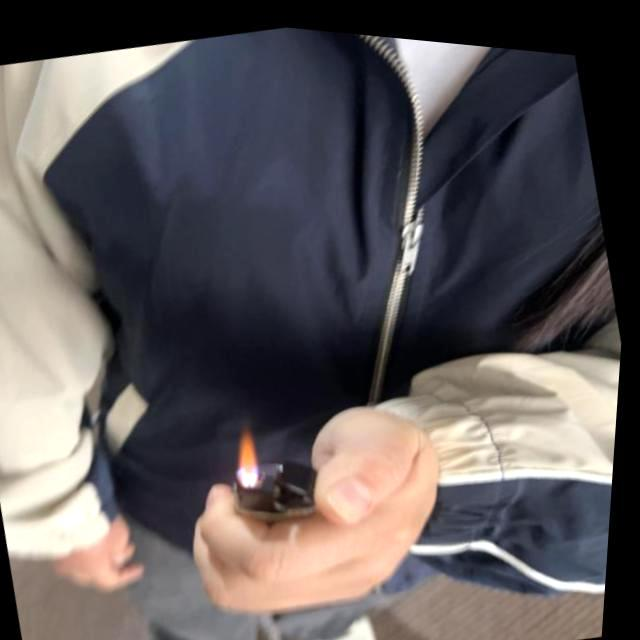fire: (230, 418, 270, 487)
